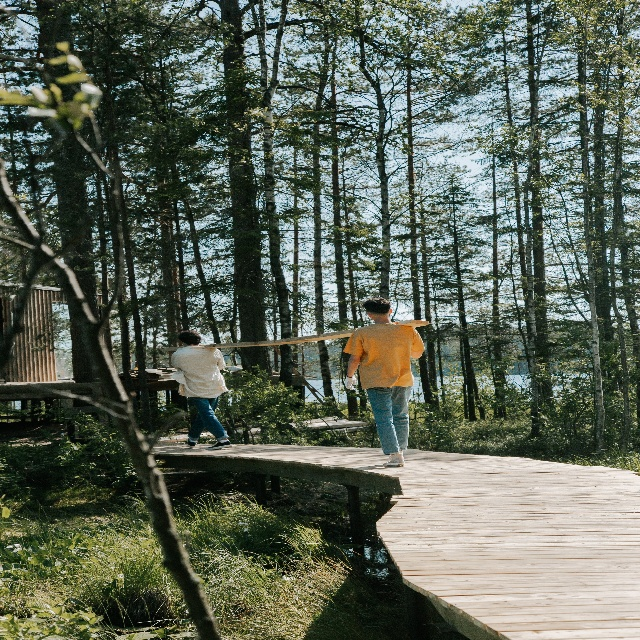Guantes: (344, 375, 356, 390)
